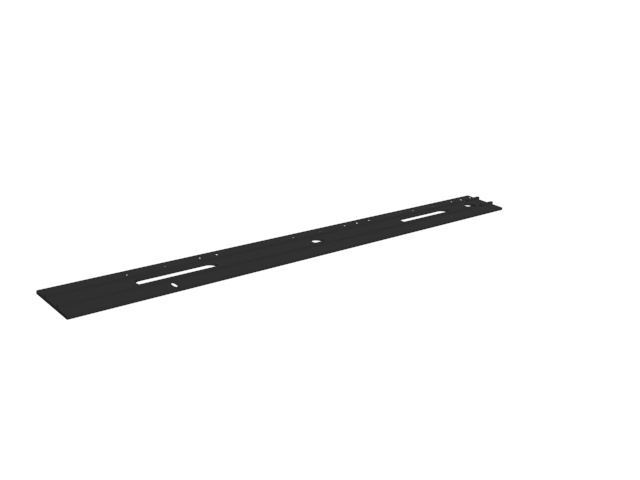ruler: (33, 193, 504, 322)
